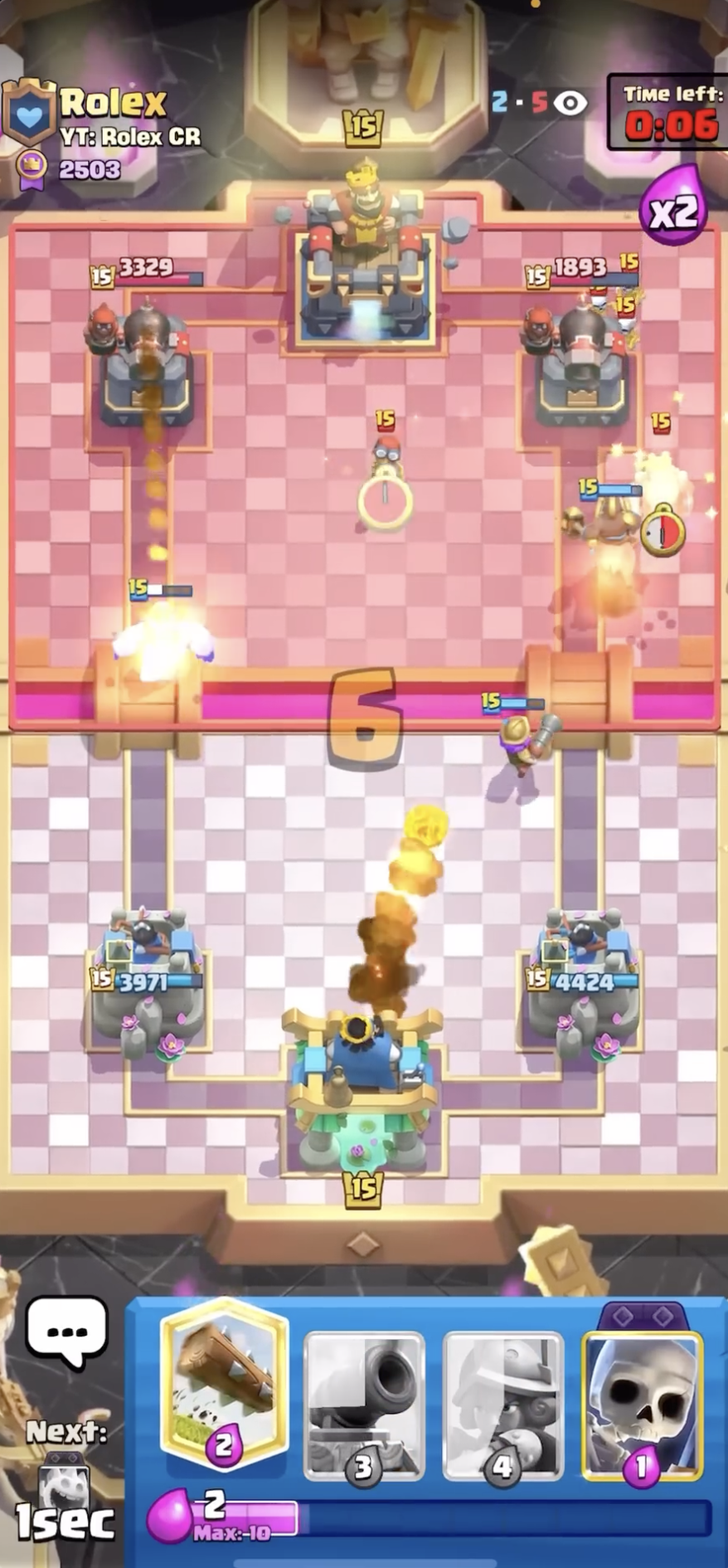fireball: (390, 786, 472, 867)
hog-rider: (553, 476, 658, 593)
ice-golem: (105, 578, 227, 688)
musketeer: (472, 682, 577, 779)
